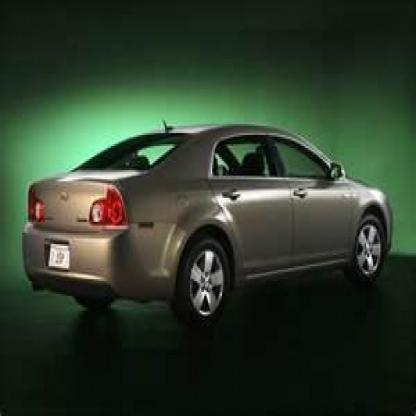Vehicle: (19, 116, 398, 335)
